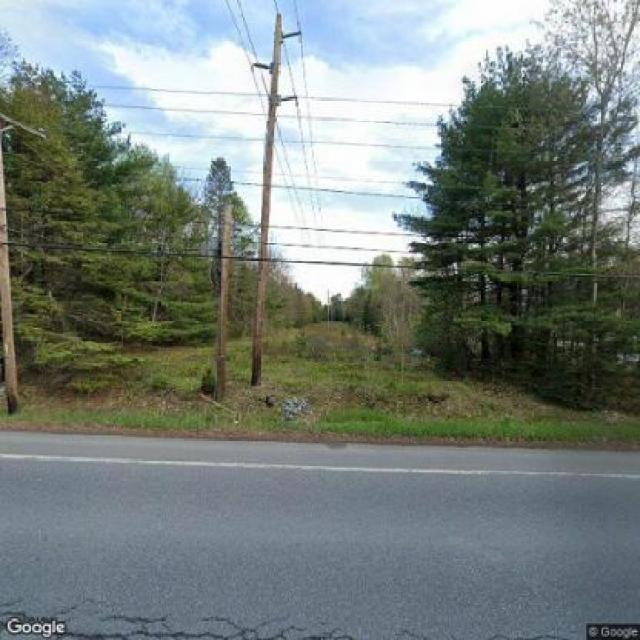pole: (246, 10, 302, 382)
